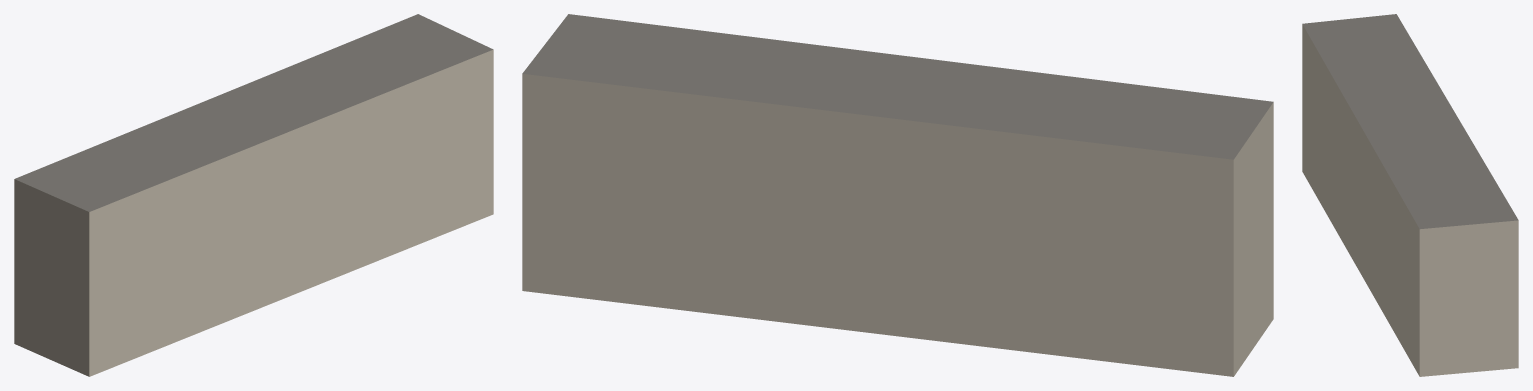
The picture shows the model from 3 angles, left to right: view 1: azimuth 30°, elevation 25°; view 2: azimuth 150°, elevation 25°; view 3: azimuth 270°, elevation 25°; orthographic projection. The views are drawn at different scales.
Visible parts, largest first — view 1: HP-w1058562709; view 2: HP-w1058562709; view 3: HP-w1058562709.
Boxes of the visible parts, bbox=[...] form: HP-w1058562709: bbox=[14, 14, 493, 376]; HP-w1058562709: bbox=[522, 14, 1273, 376]; HP-w1058562709: bbox=[1302, 14, 1518, 376].
Bounding box in the file's own units: 56.23 × 18 × 23.9.
